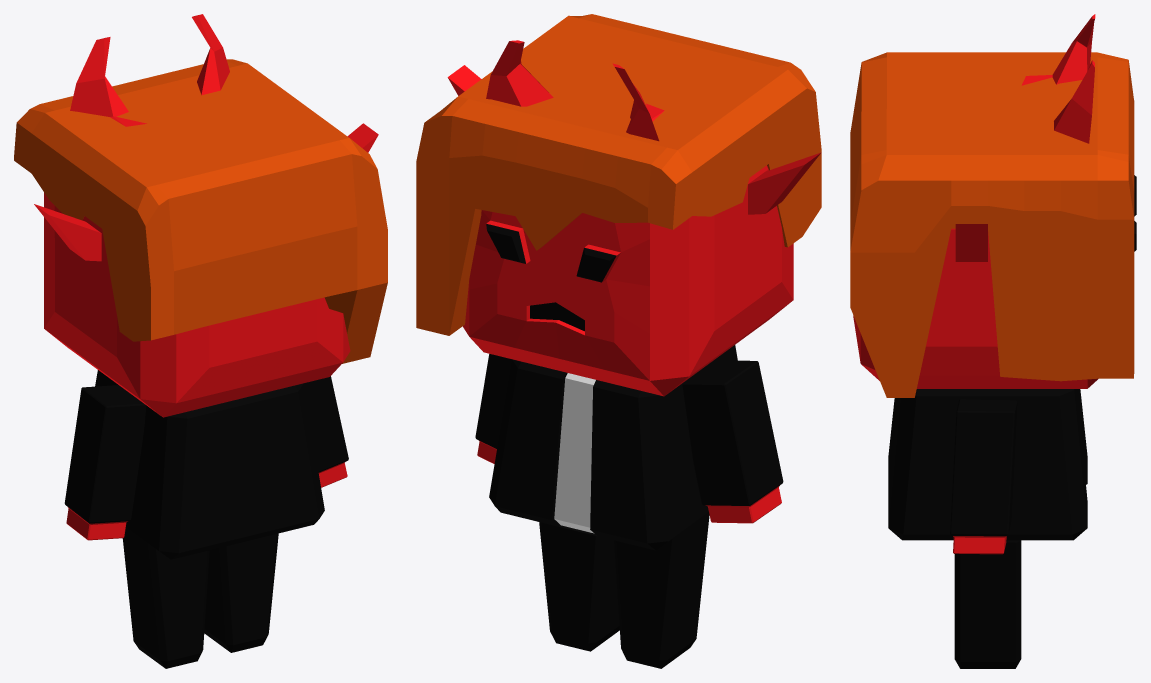
File: DevilModel_6.fbx
3 views of the same model, side by side, from view 1: azimuth 30°, elevation 25°; view 2: azimuth 150°, elevation 25°; view 3: azimuth 270°, elevation 25° (orthographic). The views are drawn at different scales.
Parts seen in each view (by area): view 1: Hair, Head, Torso, LegLeft, Arms; view 2: Hair, Head, Torso, LegLeft, Arms; view 3: Hair, Torso, Head, Arms, LegLeft.
Boxes of the visible parts, <box> form: Hair: <box>14,59,387,363</box>; Head: <box>34,14,378,417</box>; Torso: <box>95,370,324,559</box>; LegLeft: <box>122,527,278,668</box>; Arms: <box>64,376,348,540</box>; Hair: <box>416,14,821,335</box>; Head: <box>447,40,821,396</box>; Torso: <box>489,345,737,550</box>; LegLeft: <box>539,512,709,668</box>; Arms: <box>475,354,783,523</box>; Hair: <box>850,52,1134,397</box>; Torso: <box>888,389,1087,540</box>; Head: <box>853,14,1136,388</box>; Arms: <box>950,399,1017,554</box>; LegLeft: <box>954,540,1021,668</box>.
Size of the model in its own units: 189 by 320 by 137.
